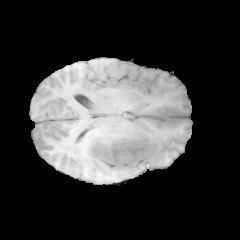glioma: (67, 130, 152, 167)
